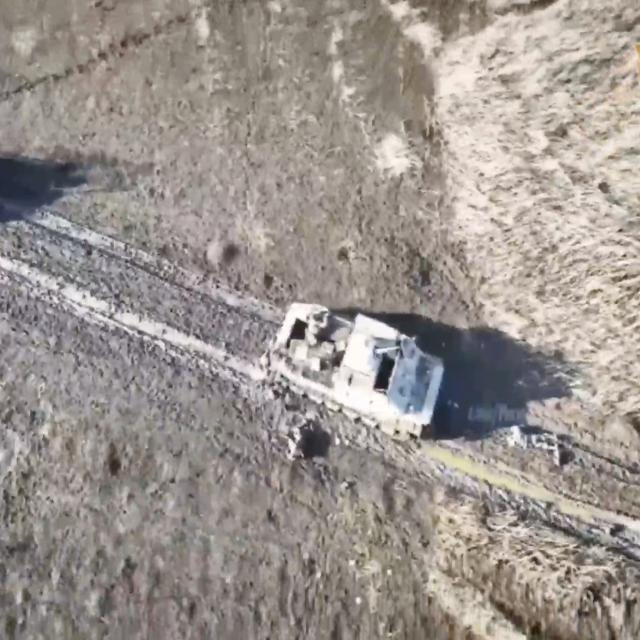infantry: (275, 404, 326, 462)
vehicle: (262, 294, 448, 465)
